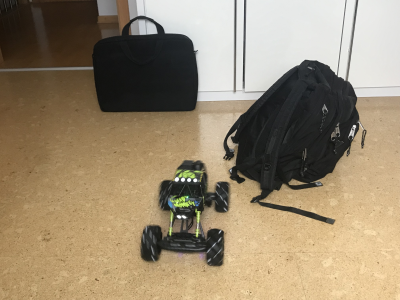remote control car: (140, 156, 231, 268)
